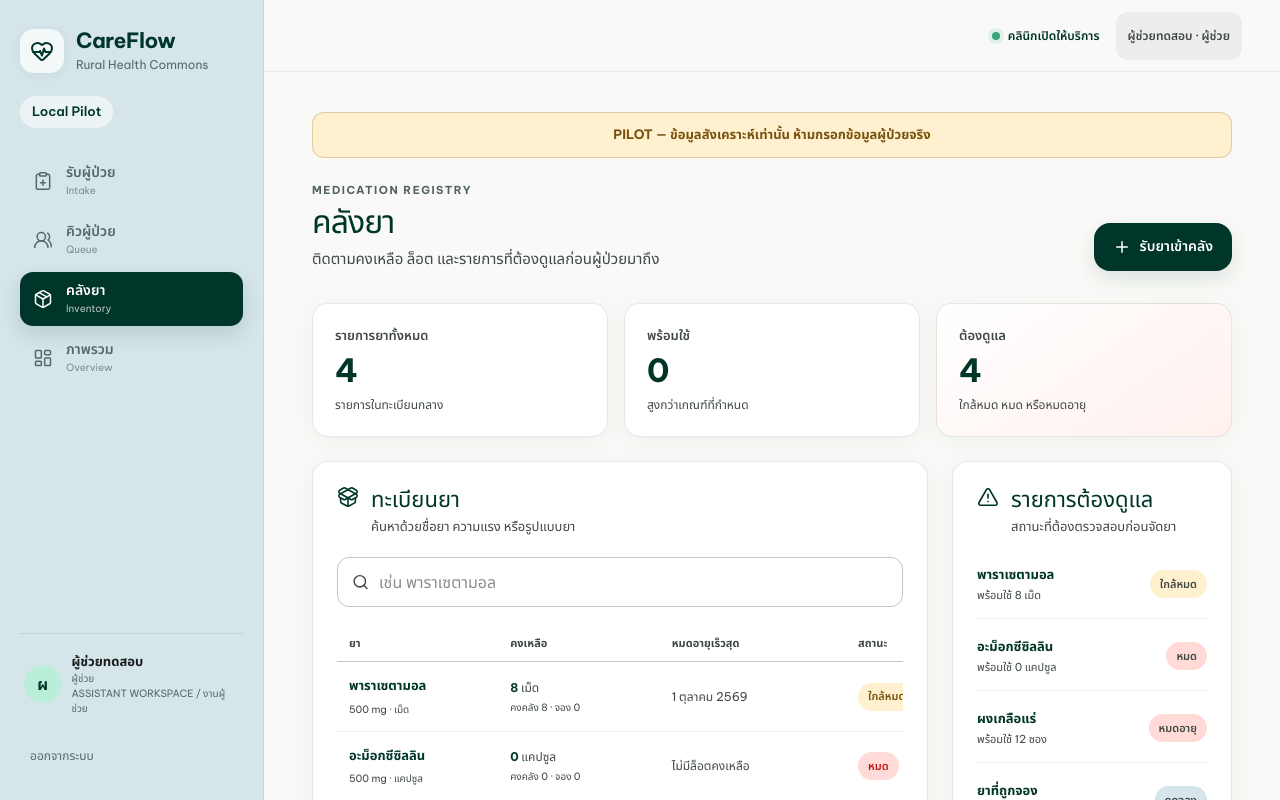
Scenario: Inventory screens › renders API inventory rows, Thai status labels, and a local search result
The image size is (1280, 800).
Expected: the text "พาราเซตามอล" in the row of "1 ตุลาคม 2569" is shown, [349, 677, 426, 693]
Expected: the text "ใกล้หมด" next to "1 ตุลาคม 2569" is shown, [868, 689, 903, 703]
Type "อะม็อก" into the search field named "ค้นหายา" at {"x": 634, "y": 582}, box [379, 570, 888, 594]
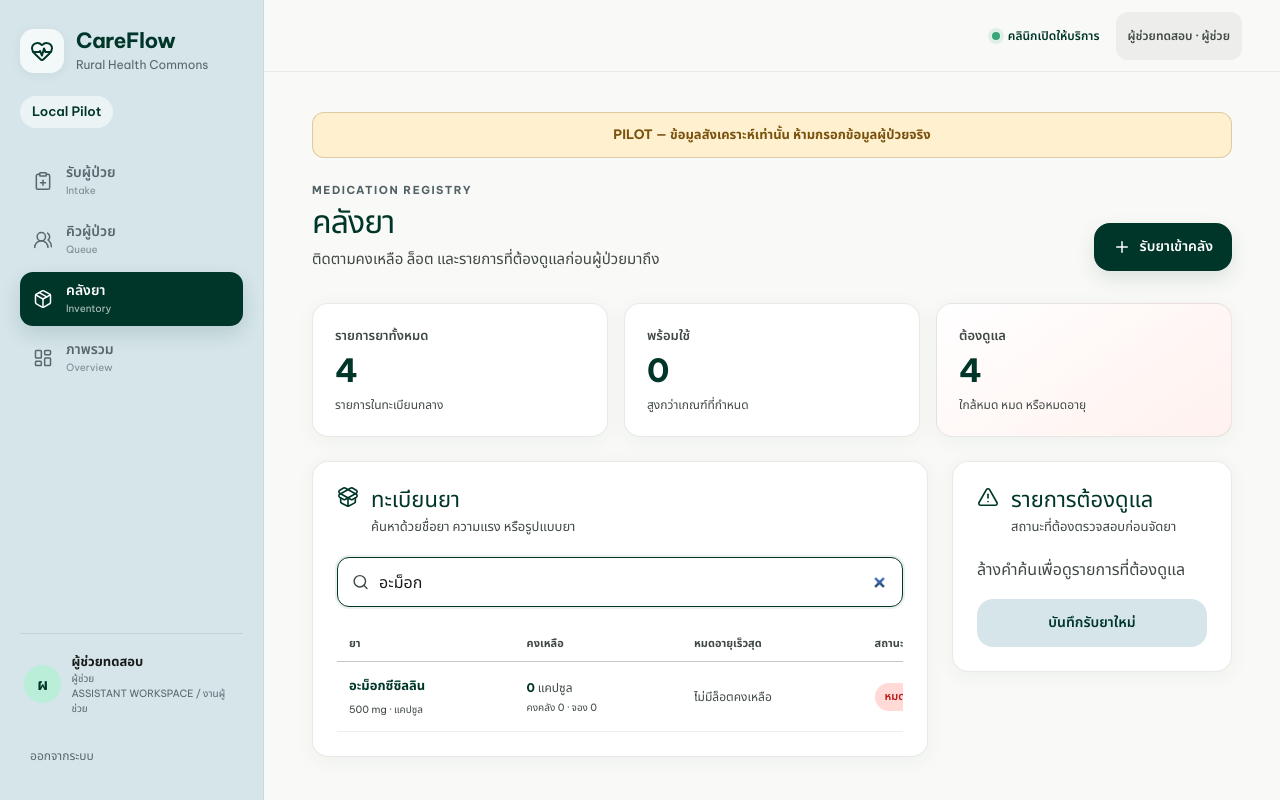
Expected: the text "อะม็อกซีซิลลิน" is shown, [349, 676, 425, 696]
Expected: the button "พาราเซตามอล" is gone
